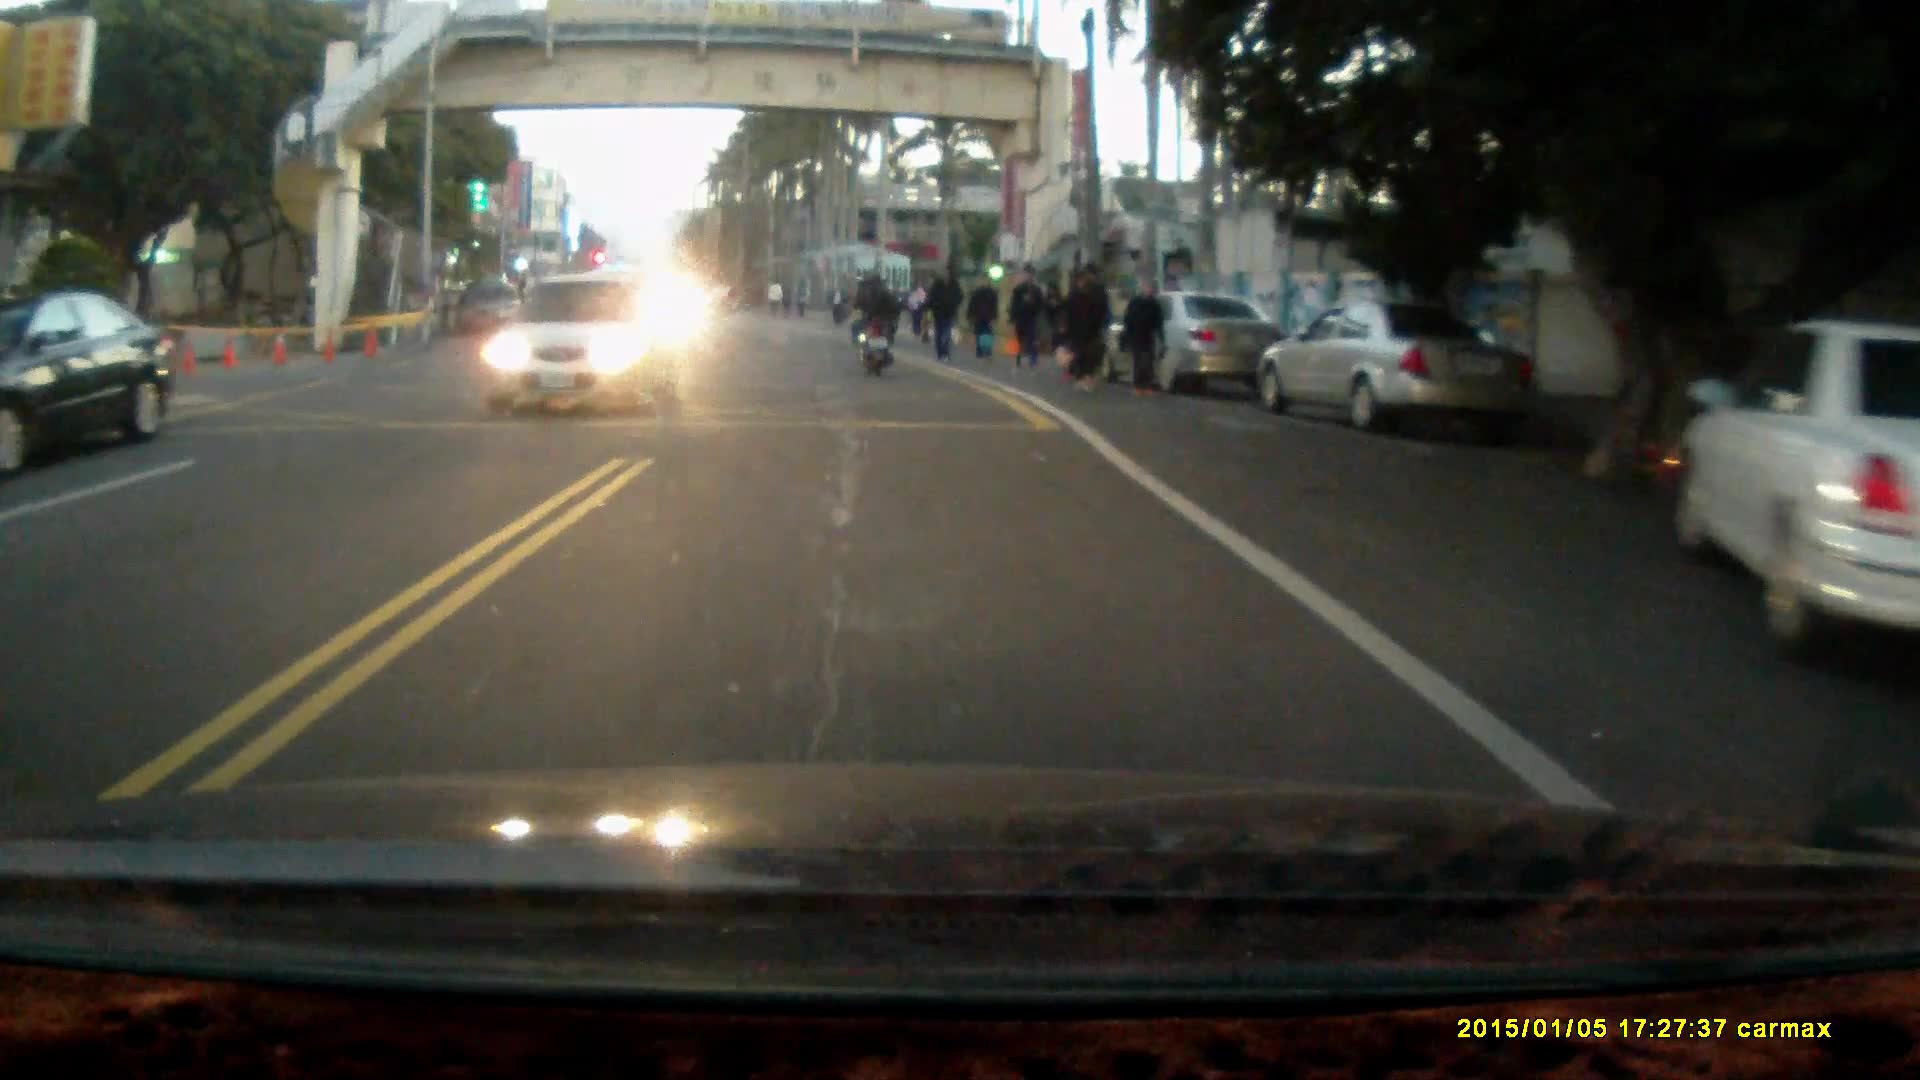pedestrian: (1121, 275, 1168, 402), (1061, 269, 1102, 392), (1006, 266, 1045, 376), (923, 265, 963, 365), (963, 273, 1000, 368)
rider: (847, 268, 902, 380)
vehicle: (1672, 320, 1920, 671), (1254, 298, 1544, 437), (1, 296, 192, 465), (472, 273, 684, 422), (1095, 293, 1293, 395)
